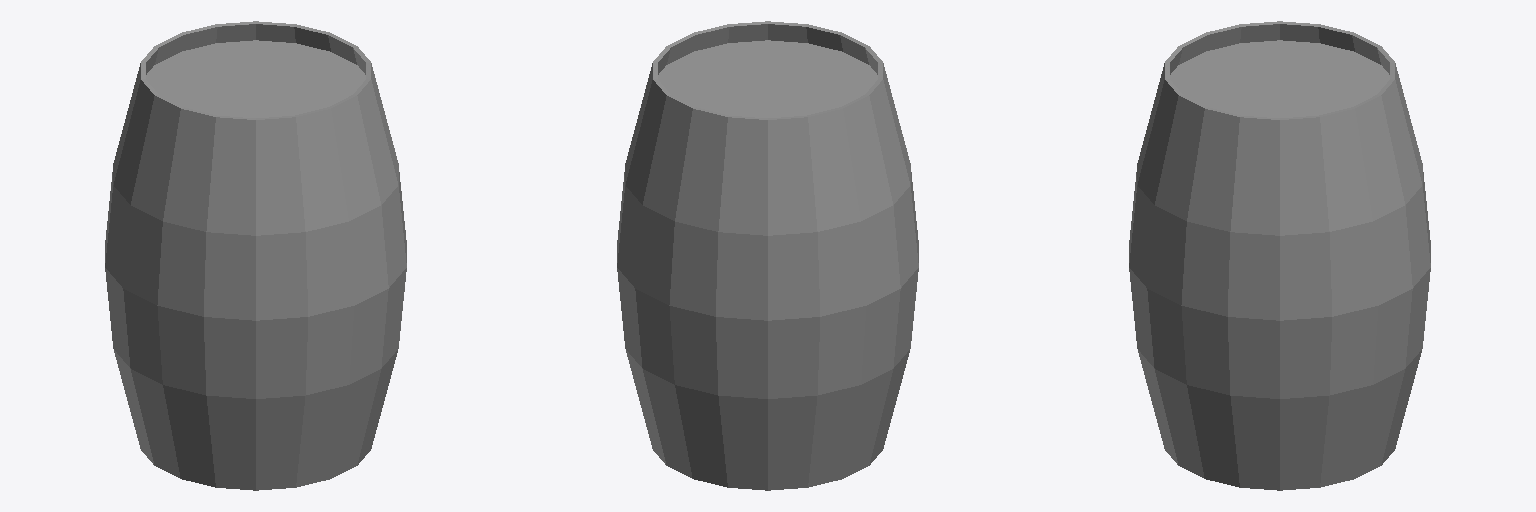
Rendered from barrel.obj.
3 views of the same model, side by side, from view 1: azimuth 30°, elevation 25°; view 2: azimuth 150°, elevation 25°; view 3: azimuth 270°, elevation 25° (orthographic).
Visible parts, largest first — view 1: Cylinder00; view 2: Cylinder00; view 3: Cylinder00.
Part boxes in pixels (x1,y1,x2,y2): Cylinder00: (105,21,406,490); Cylinder00: (617,21,918,490); Cylinder00: (1129,21,1430,490).
Bounding box in the file's own units: 2.36 × 3.15 × 2.33.